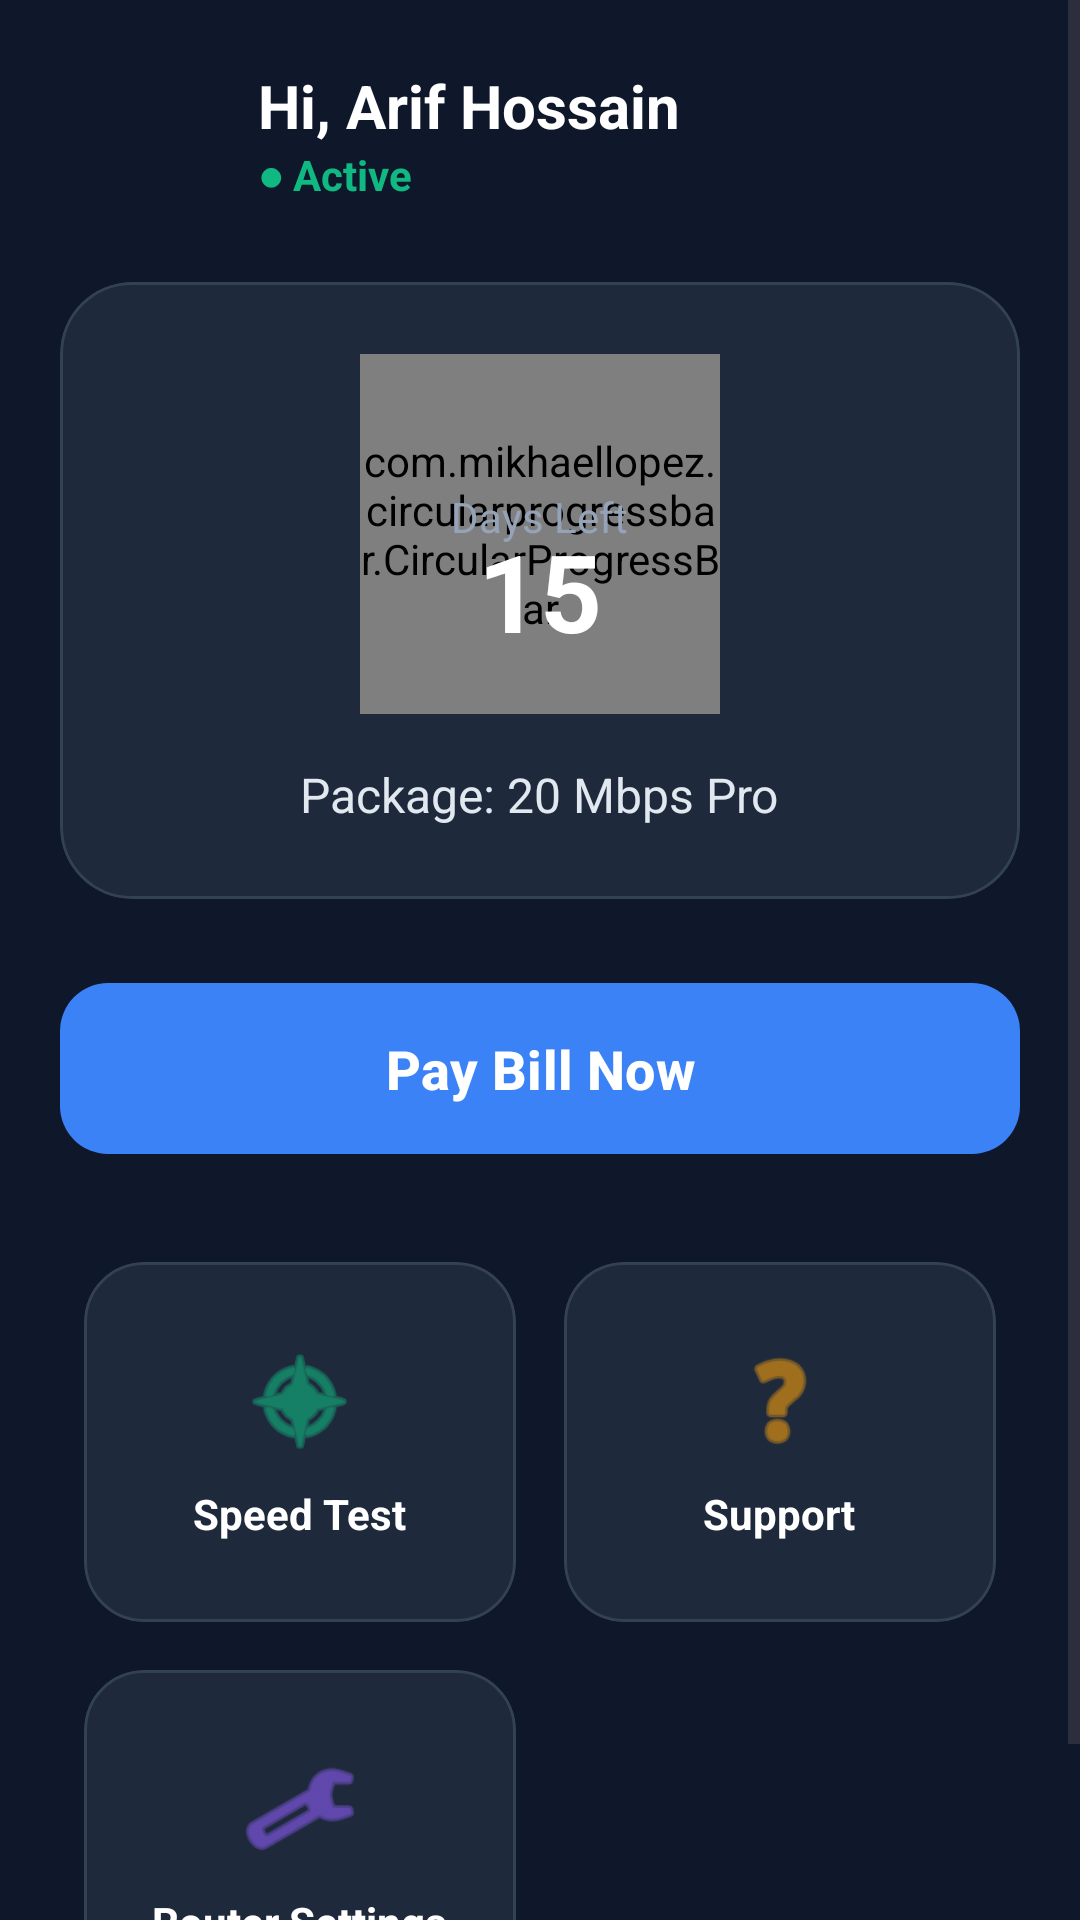

Named icons in this screenshot (1080x1920) and their centers, (x=x, y=y):
help: (x=780, y=1401)
manage: (x=300, y=1809)
